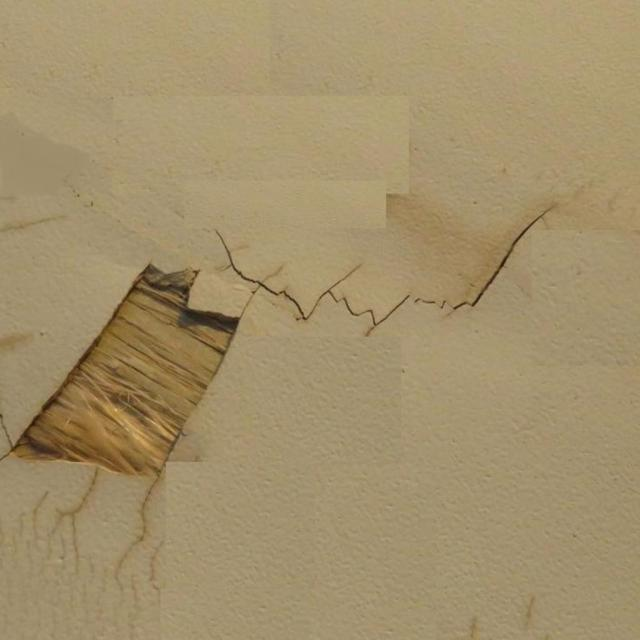corrosion: (9, 262, 246, 480)
crack: (208, 212, 554, 320)
